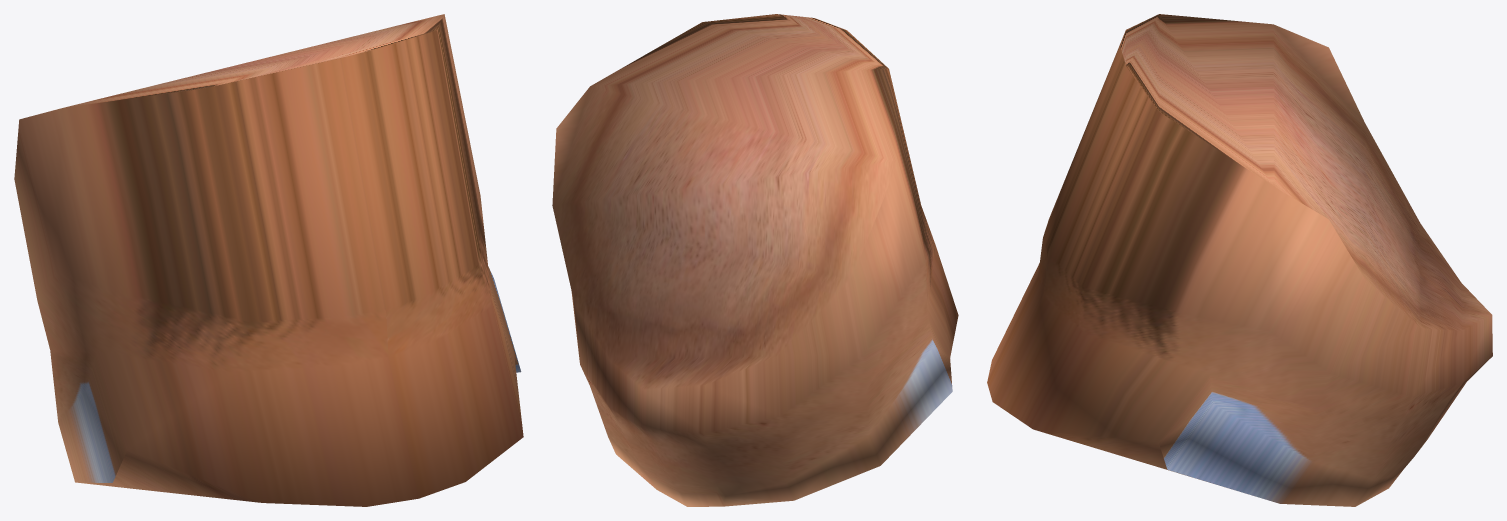
Rendered from Neck.dae.
The picture shows the model from 3 angles, left to right: view 1: azimuth 30°, elevation 25°; view 2: azimuth 150°, elevation 25°; view 3: azimuth 270°, elevation 25°; orthographic projection. The views are drawn at different scales.
Parts seen in each view (by area): view 1: Neck; view 2: Neck; view 3: Neck.
Boxes of the visible parts, <box> form: Neck: <box>14,14,523,506</box>; Neck: <box>552,14,958,506</box>; Neck: <box>987,14,1492,506</box>.
Size of the model in its own units: 0.1057 by 0.1298 by 0.1222.
1 material, 1 textured.
